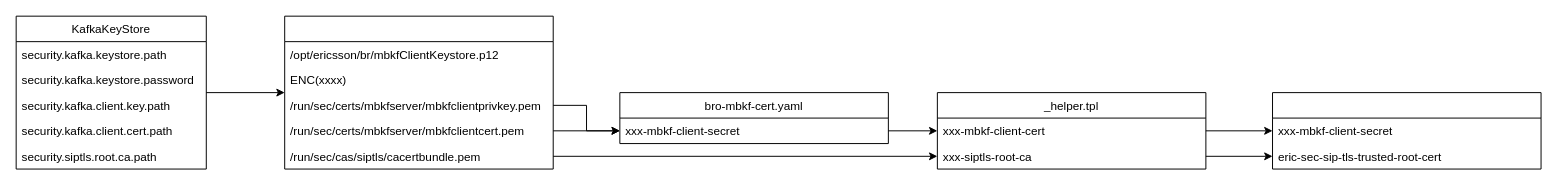
The diagram is 1557 pixels wide and 185 high, and some of its shapes have lost their labels. The shapes that lost their labels are listed below. From the top down, each one's box as (x1, y1, x2, y2) in pixels, then its label:
(284, 15, 553, 169): serviceproperties-configmap.yml
(1272, 92, 1541, 169): _helper.tpl (secret name)
